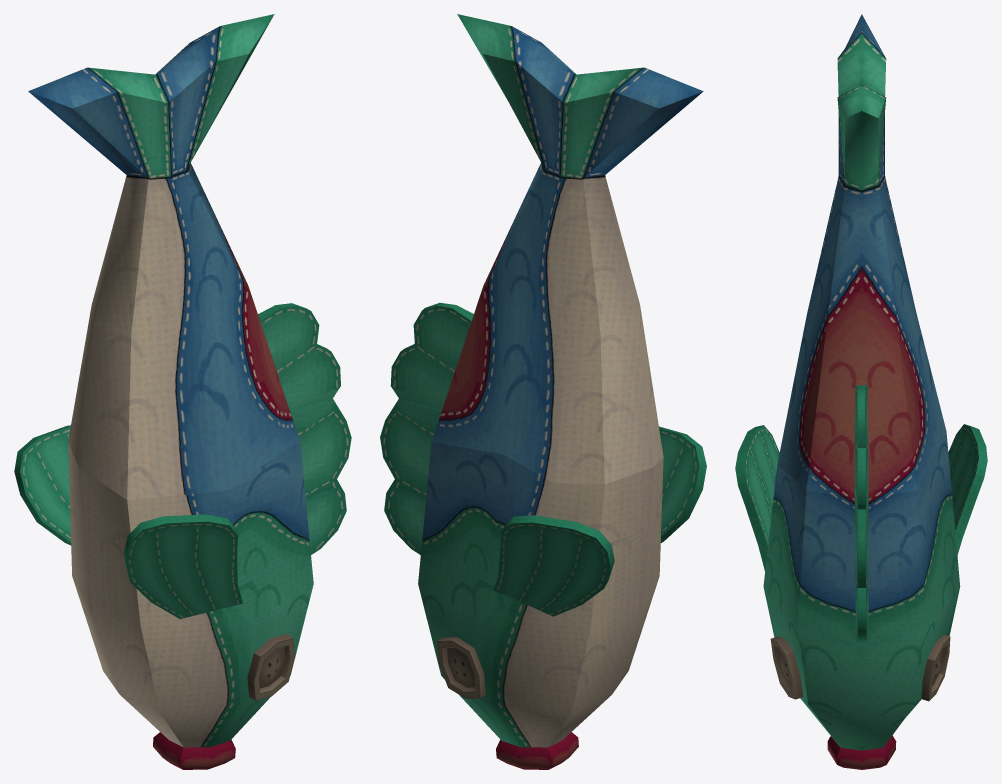
The model's file is fish.glb.
3 renders of one model, left to right at view 1: azimuth 30°, elevation 25°; view 2: azimuth 150°, elevation 25°; view 3: azimuth 270°, elevation 25°, orthographic. The views are drawn at different scales.
Visible parts, largest first — view 1: FishBottom, FishTop; view 2: FishBottom, FishTop; view 3: FishTop, FishBottom.
Part boxes in pixels (x1=…): FishBottom: x1=28, y1=14, x2=340, y2=499; FishTop: x1=14, y1=398, x2=351, y2=769; FishBottom: x1=390, y1=14, x2=703, y2=484; FishTop: x1=380, y1=398, x2=706, y2=769; FishTop: x1=735, y1=424, x2=987, y2=769; FishBottom: x1=777, y1=14, x2=946, y2=509.
Size of the model in its own units: 0.3672 by 0.7955 by 0.2656.
1 material, 1 textured.
